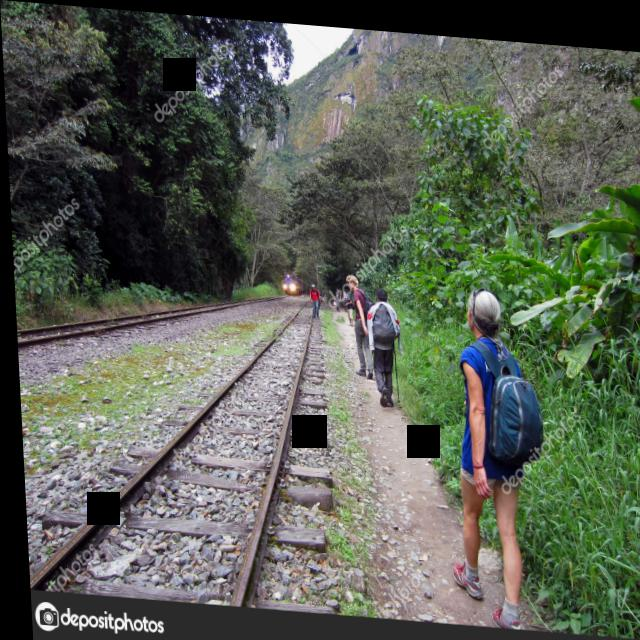locomotive: (278, 265, 301, 293)
